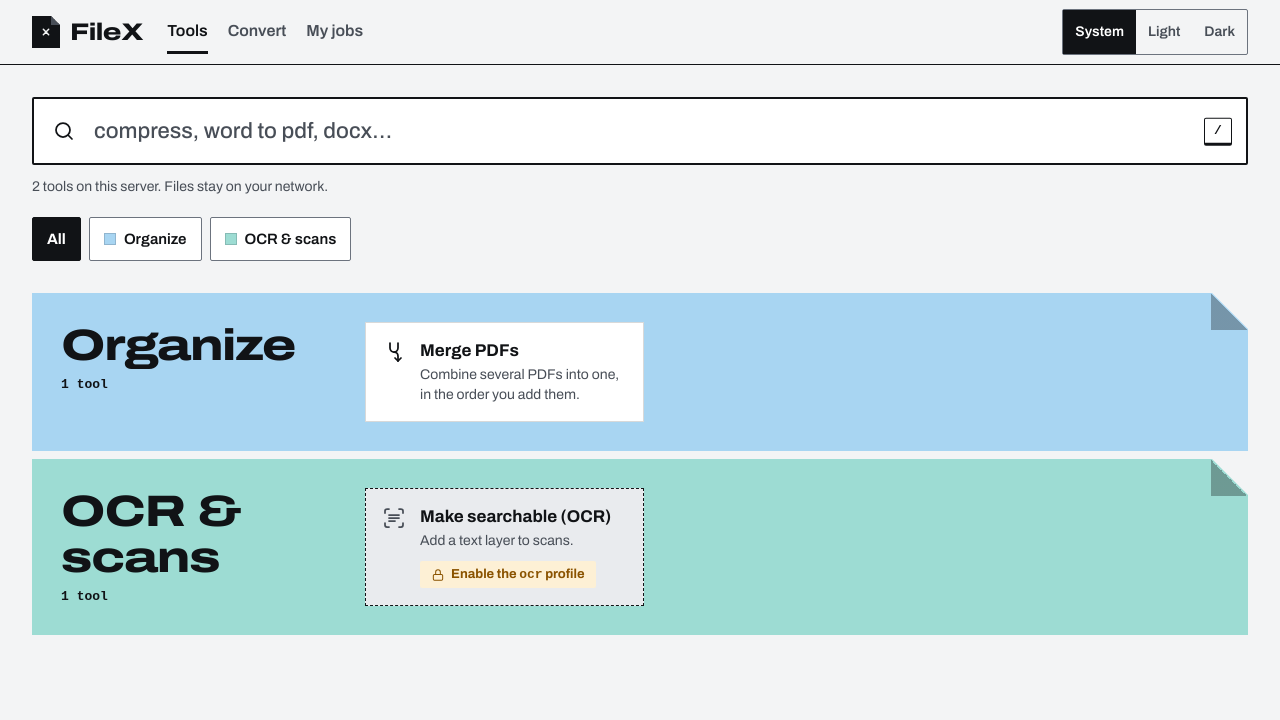
catalog › opens the tool page through the client router and shows API errors as an alert
Click the link "Merge PDFs".
click(505, 372)  # box [365,322,644,422]
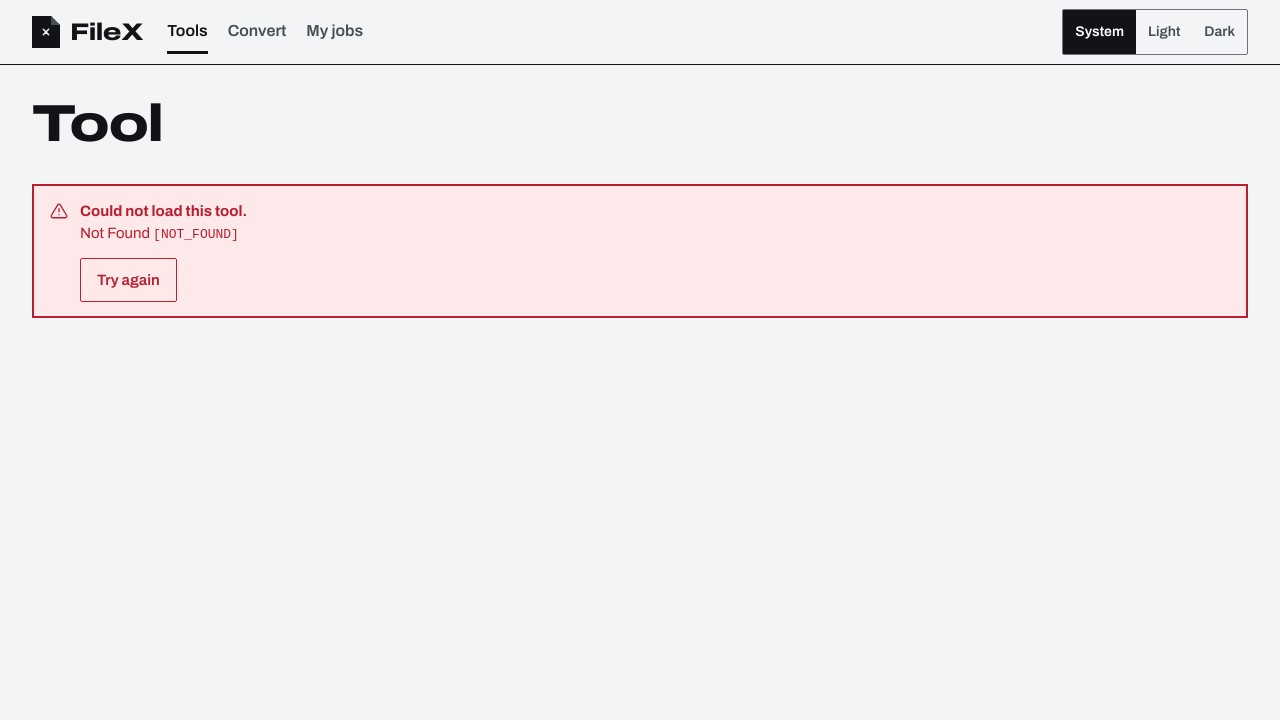
Now the message "Could not load this tool. Not Found [NOT_FOUND] Try again" is shown, box [32,184,1248,318]
